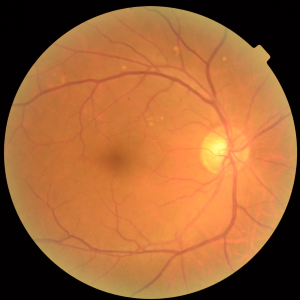retina_disease: (84, 95, 265, 219)
